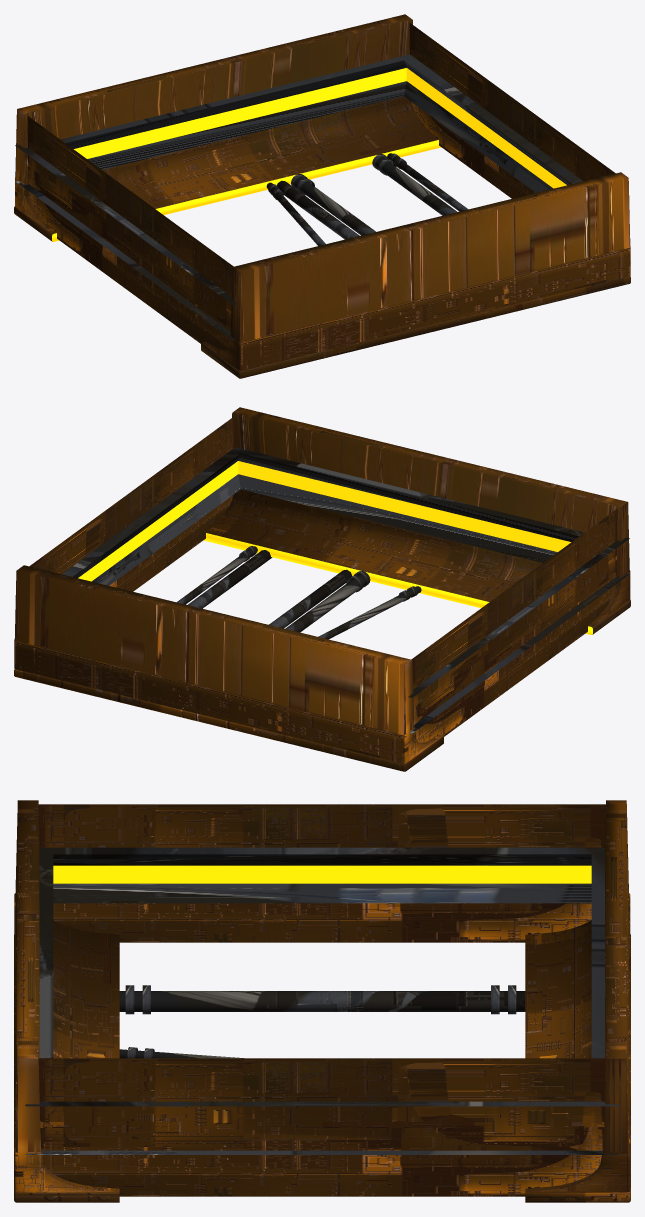
Rendered from floor.04.gltf.
The picture shows the model from 3 angles, top to bottom: view 1: azimuth 30°, elevation 25°; view 2: azimuth 150°, elevation 25°; view 3: azimuth 270°, elevation 25°; orthographic projection. The views are drawn at different scales.
Parts seen in each view (by area): view 1: Floor 4 Base; view 2: Floor 4 Base; view 3: Floor 4 Base.
Boxes of the visible parts, x1,y1,x2,y2 form: Floor 4 Base: [14, 14, 630, 378]; Floor 4 Base: [14, 407, 630, 771]; Floor 4 Base: [14, 800, 630, 1202].
Size of what is drawn, in the model's own units: 30.05 by 8.24 by 29.7.
3 materials, 2 textured.
